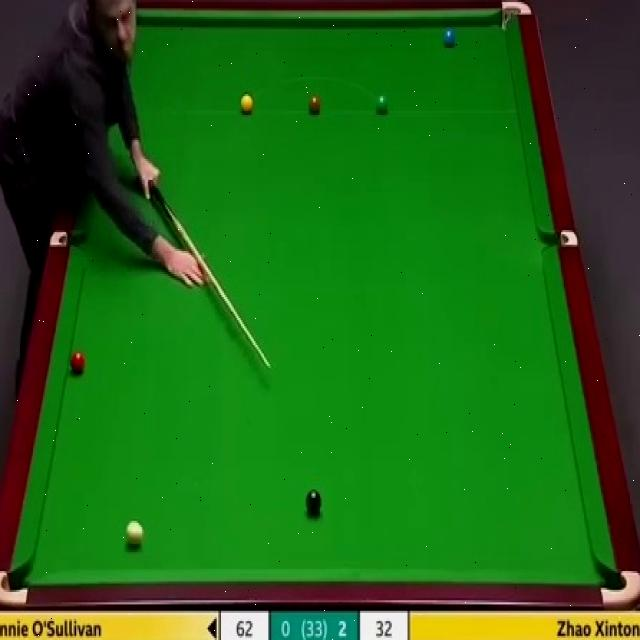black-ball: (304, 488, 322, 516)
blue-ball: (442, 28, 456, 46)
brown-ball: (307, 92, 322, 115)
green-ball: (373, 94, 389, 116)
red-ball: (69, 351, 87, 375)
white-ball: (125, 516, 142, 544)
yellow-ball: (240, 92, 253, 114)
